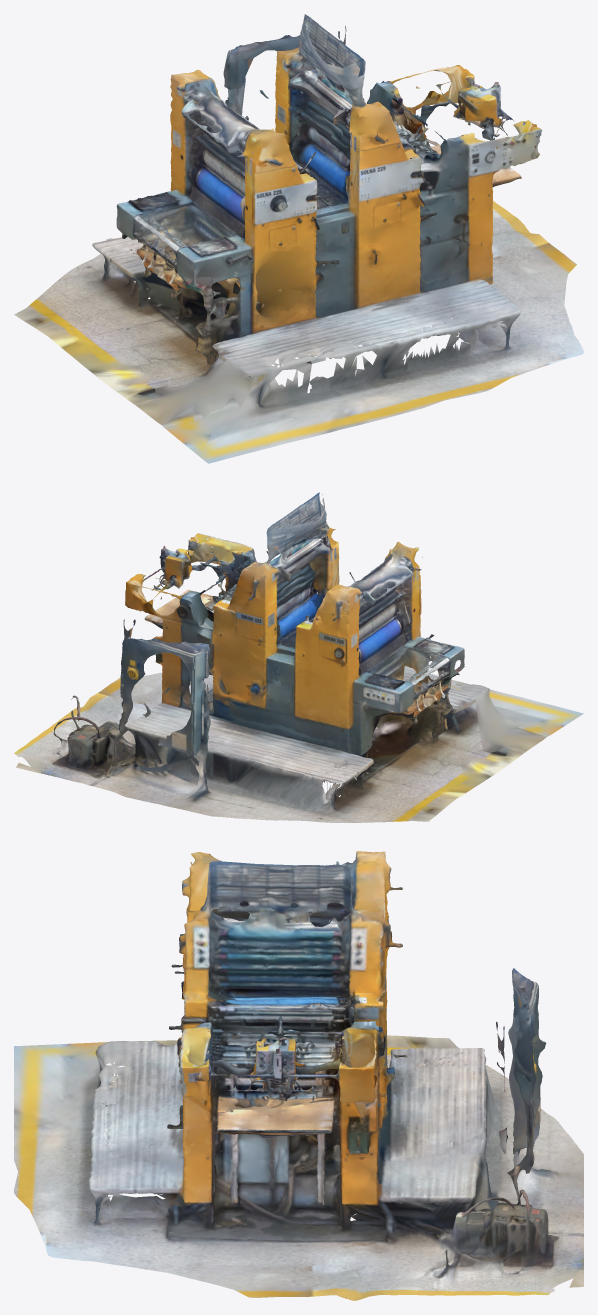
Rendered from impresora.glb.
3 renders of one model, top to bottom at view 1: azimuth 30°, elevation 25°; view 2: azimuth 150°, elevation 25°; view 3: azimuth 270°, elevation 25°, orthographic. The views are drawn at different scales.
Parts seen in each view (by area): view 1: Object_4, Object_3, Object_2, Object_5; view 2: Object_3, Object_4, Object_2, Object_5; view 3: Object_3, Object_4, Object_5, Object_2.
Part boxes in pixels (bbox=[...]): Object_4: bbox=[41, 23, 576, 429]; Object_3: bbox=[121, 17, 572, 404]; Object_2: bbox=[14, 14, 583, 450]; Object_5: bbox=[91, 14, 542, 463]; Object_3: bbox=[14, 515, 482, 817]; Object_4: bbox=[21, 498, 548, 822]; Object_2: bbox=[16, 493, 566, 822]; Object_5: bbox=[58, 492, 583, 786]; Object_3: bbox=[14, 851, 583, 1295]; Object_4: bbox=[14, 853, 583, 1300]; Object_5: bbox=[14, 861, 583, 1274]; Object_2: bbox=[14, 851, 583, 1293].
Bounding box in the file's own units: 3.89 × 2.22 × 3.62.
Materials: 1 (1 with a texture image).
